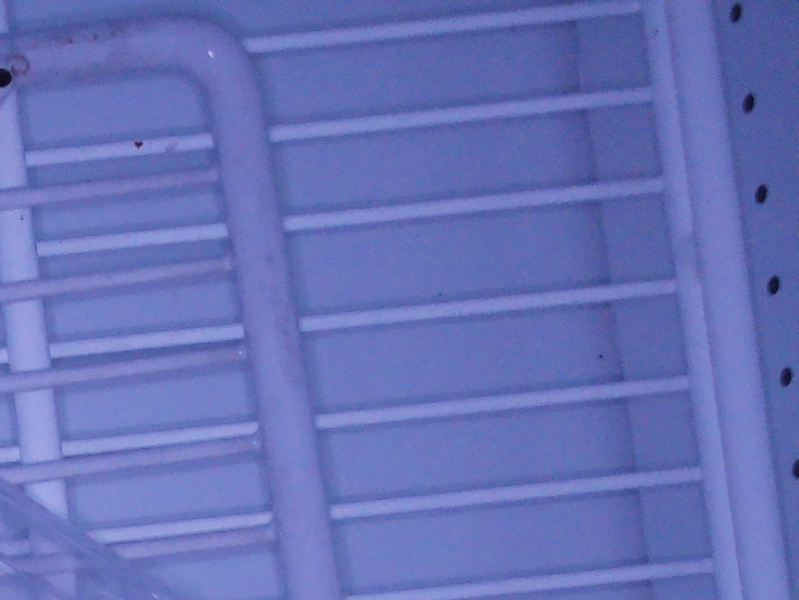plate: (1, 477, 193, 600)
